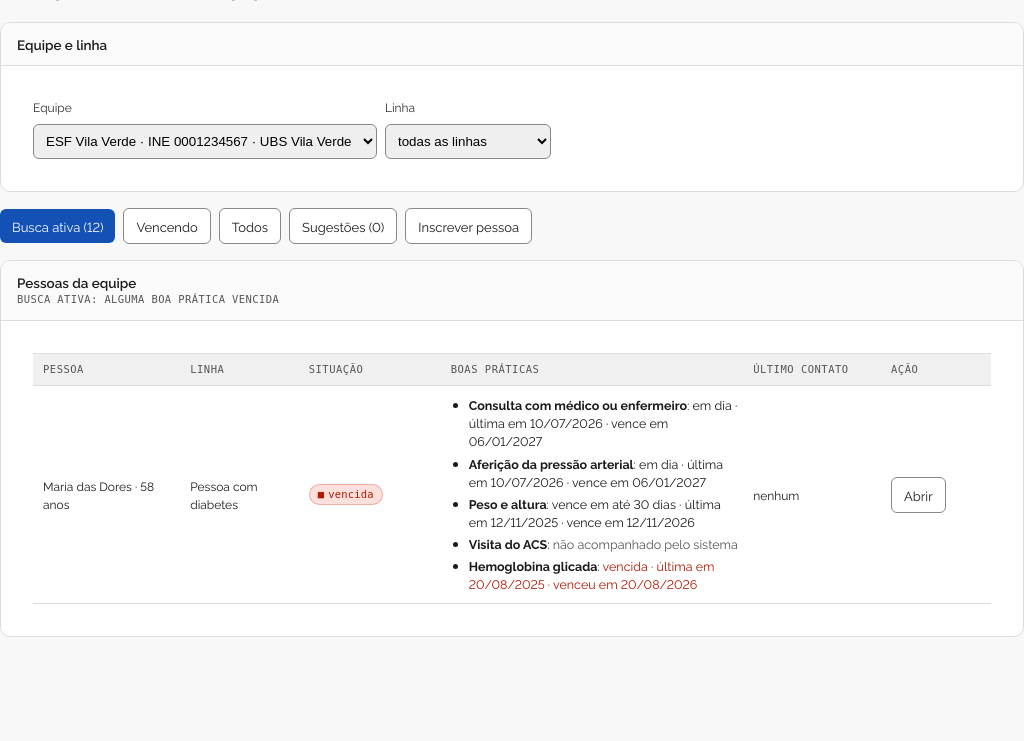
Test case: EnrollmentDetail › inscrição encerrada por outra pessoa (409 invalid_transition): frase, fecha e relê a lista
Click the button with aria-label "Abrir Maria das Dores": (918, 495) [891, 477, 946, 513]
(page scrolled)
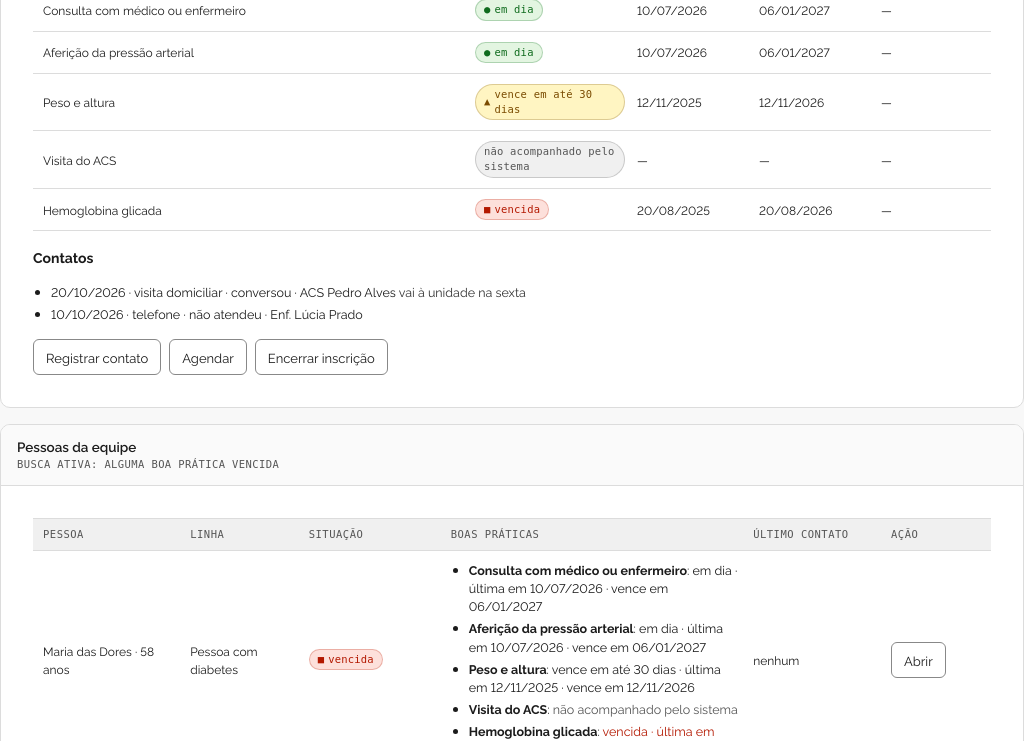
Click the button "Registrar contato": (97, 357) [33, 339, 161, 375]
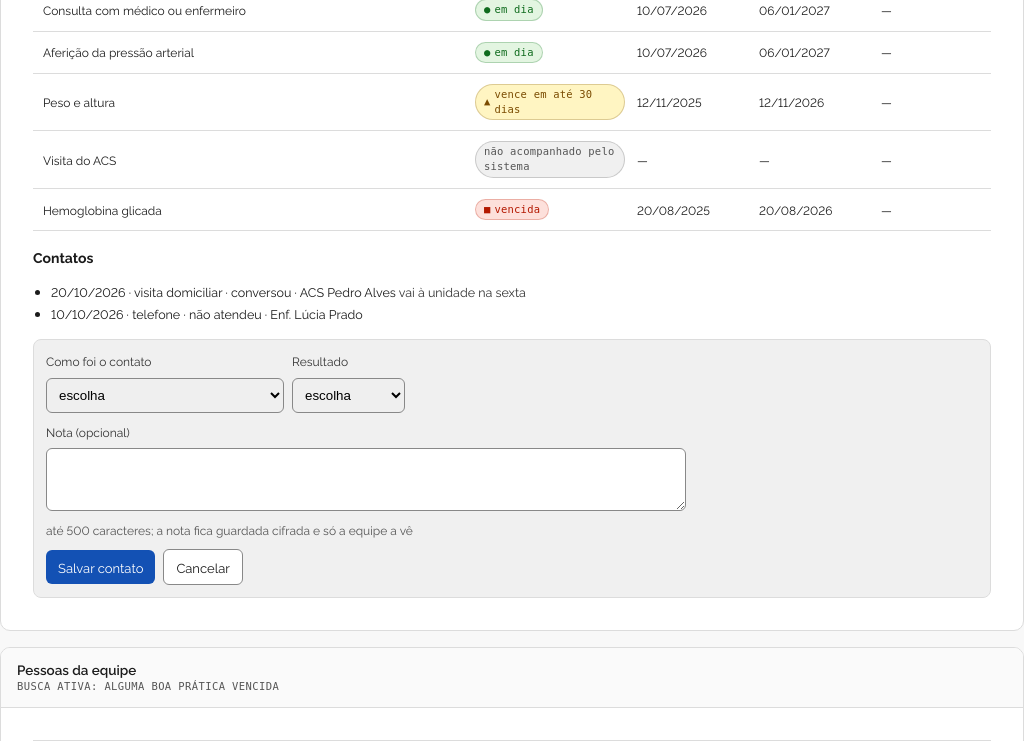
Select "presencial na unidade" in the dropdown labelled "Como foi o contato": (165, 395) [46, 378, 284, 413]
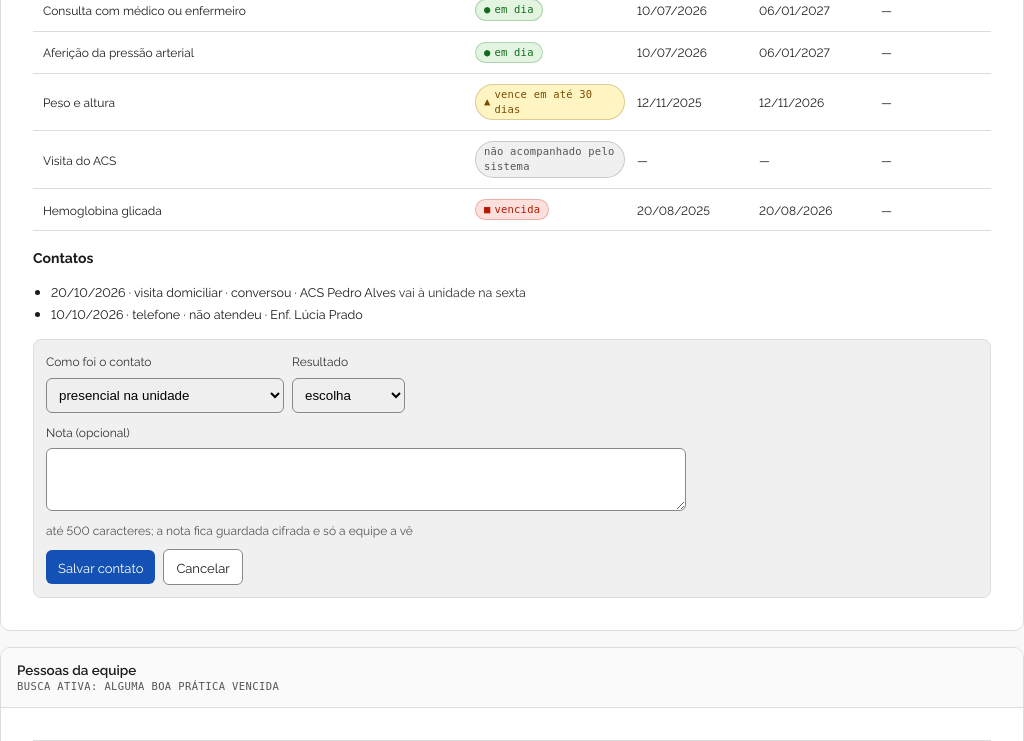
Select "conversou" in the dropdown labelled "Resultado": (348, 395) [292, 378, 405, 413]
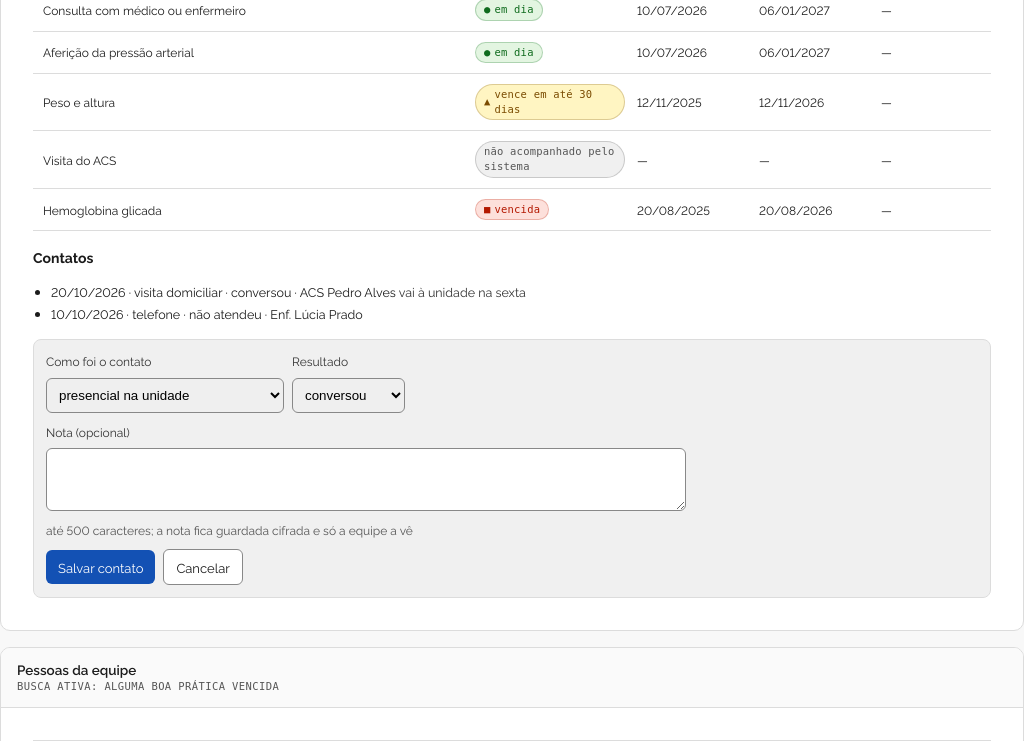
Click the button "Salvar contato": (101, 567) [46, 550, 155, 584]
(page scrolled)
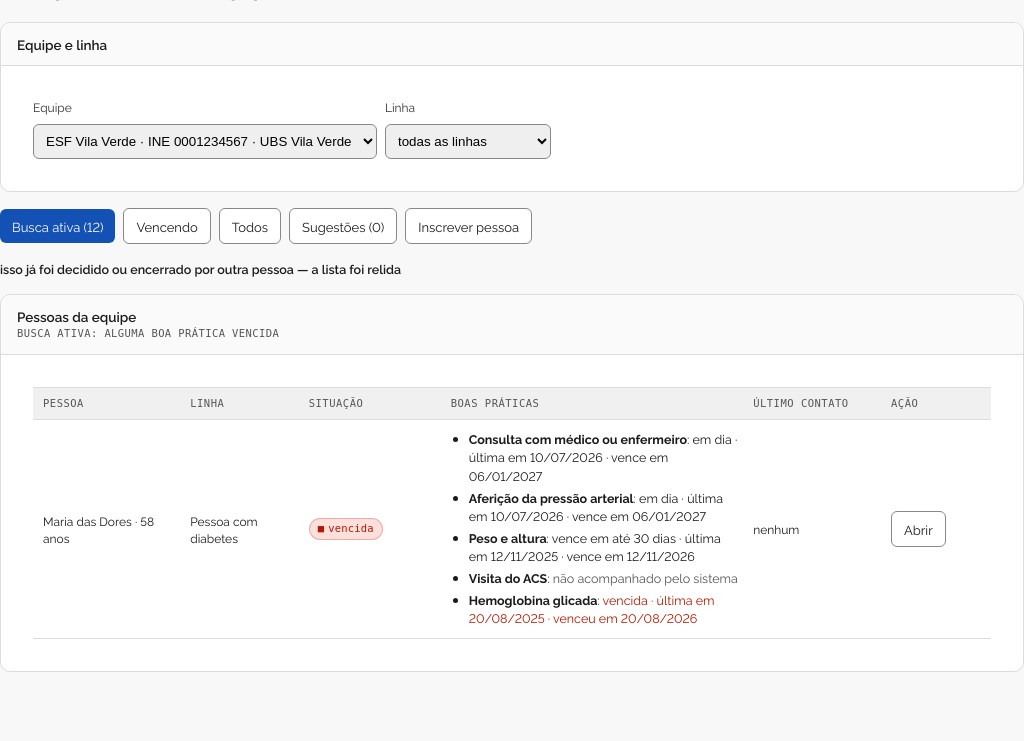
expect the message reads "isso já foi decidido ou encerrado por outra pessoa — a lista foi relida": met, box [0, 260, 401, 277]
